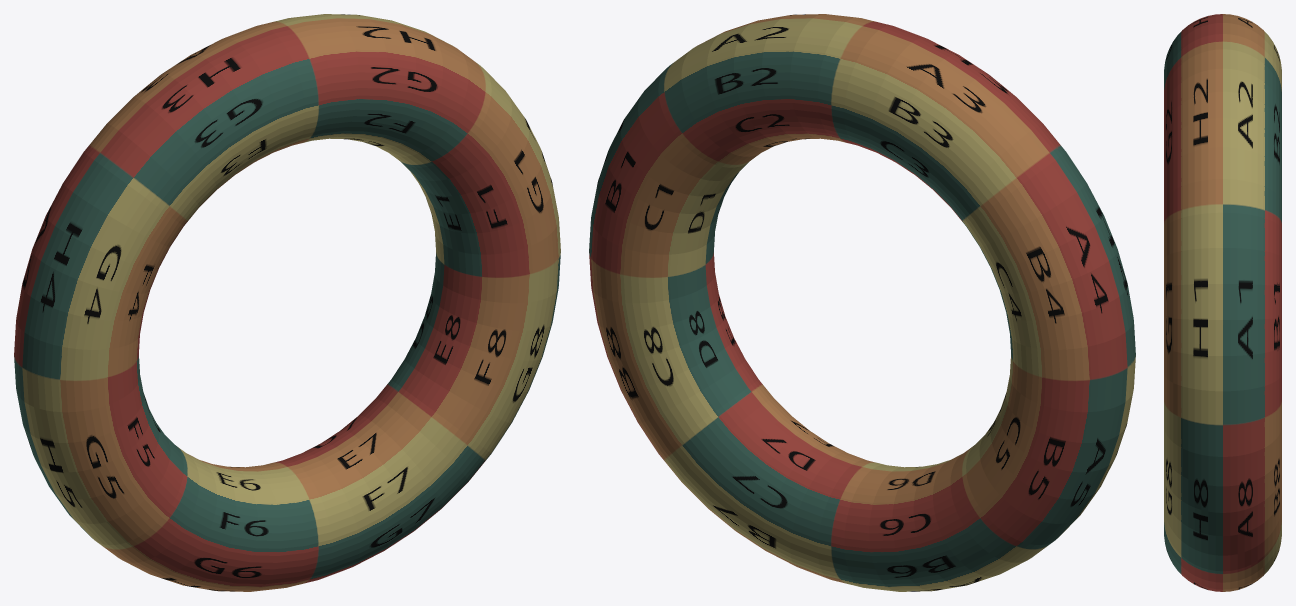
The model's file is texture_torus_R17_r13.glb.
The picture shows the model from 3 angles, left to right: view 1: azimuth 30°, elevation 25°; view 2: azimuth 150°, elevation 25°; view 3: azimuth 270°, elevation 25°; orthographic projection. The views are drawn at different scales.
Parts seen in each view (by area): view 1: world; view 2: world; view 3: world.
Boxes of the visible parts, x1,y1,x2,y2 form: world: [14, 14, 560, 591]; world: [589, 14, 1135, 591]; world: [1164, 14, 1281, 591].
Size of the model in its own units: 26.8 by 26.75 by 5.46.
Materials: 1 (1 with a texture image).
